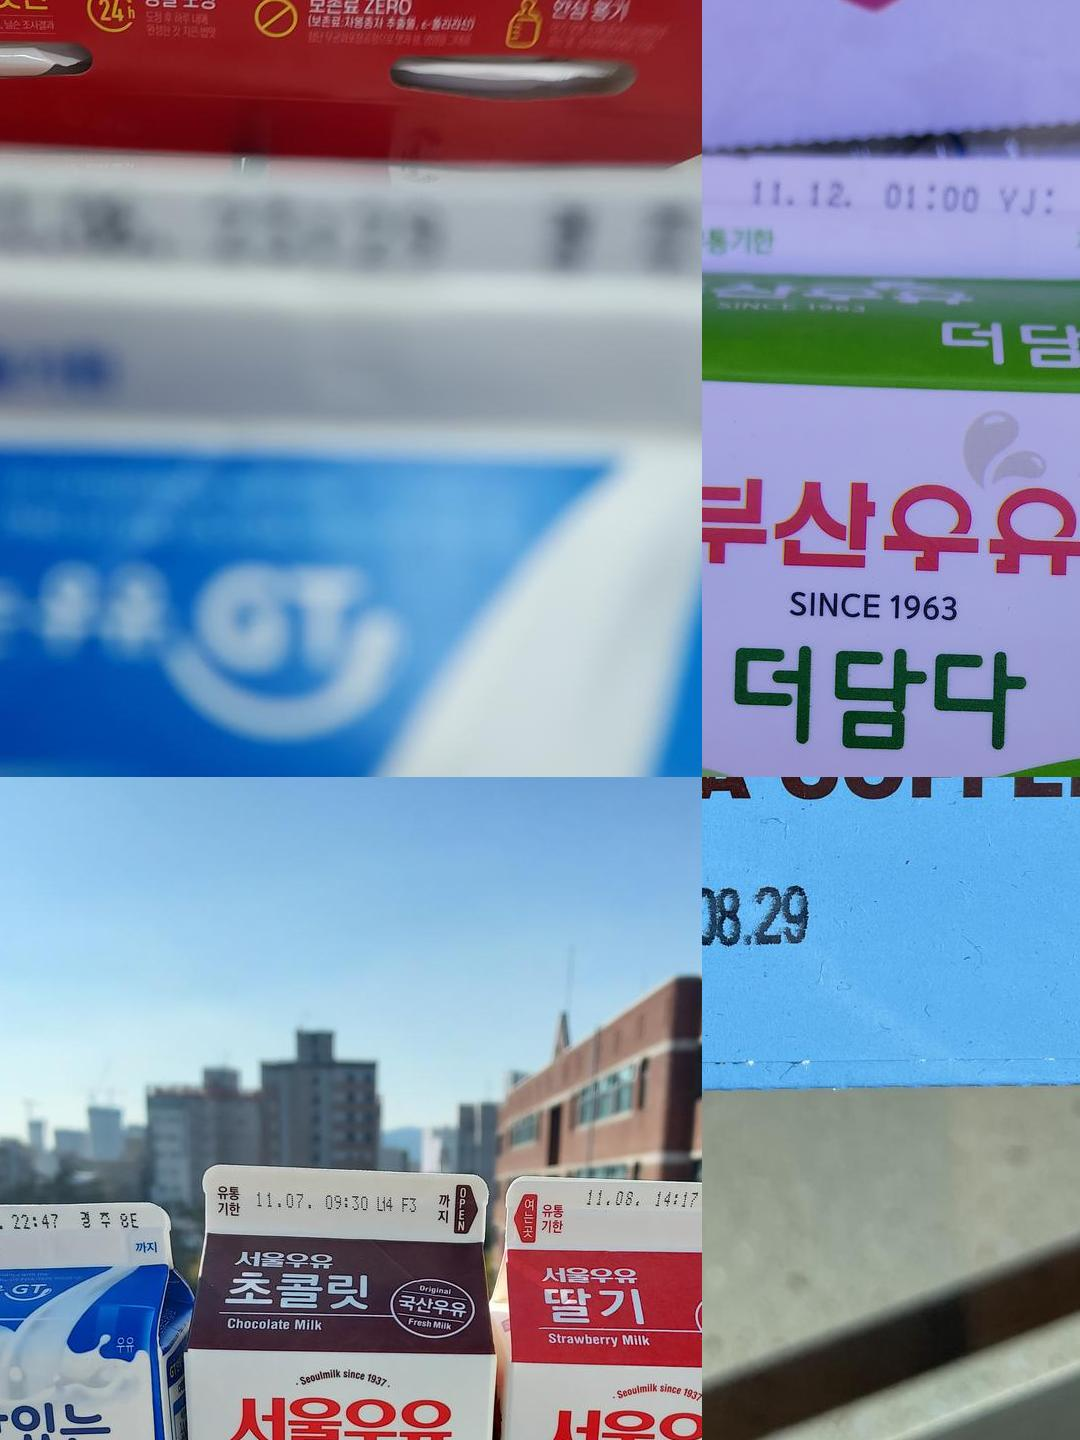milk: (0, 135, 702, 463), (702, 154, 1080, 283), (205, 1160, 487, 1237), (507, 1176, 702, 1260), (0, 1201, 170, 1267)
snack food: (702, 849, 845, 969)
